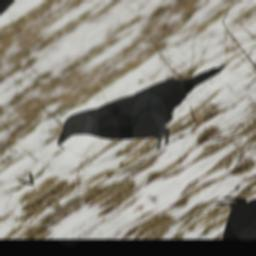Crow: (37, 32, 252, 191)
